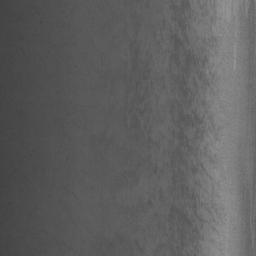Silk spot: (116, 0, 228, 256), (125, 0, 149, 36)
